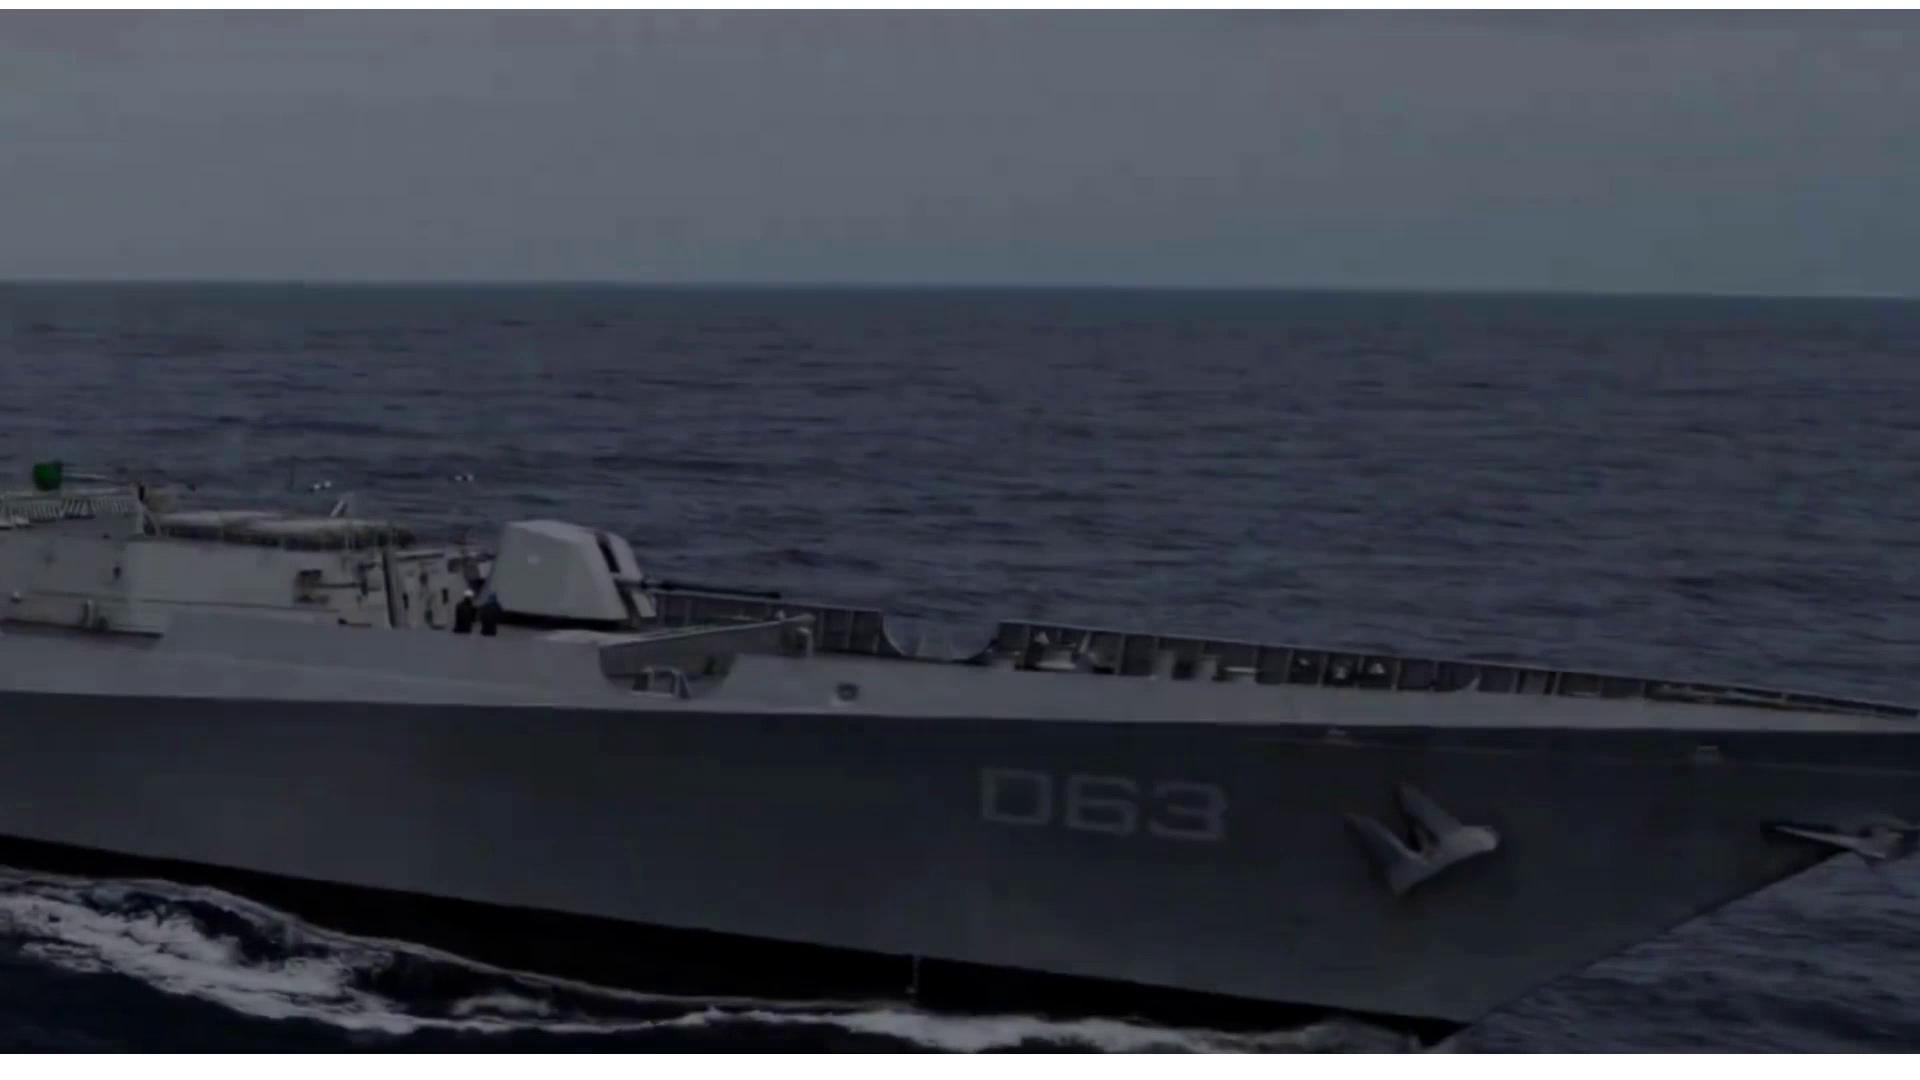OCR: (968, 760, 1233, 853)
